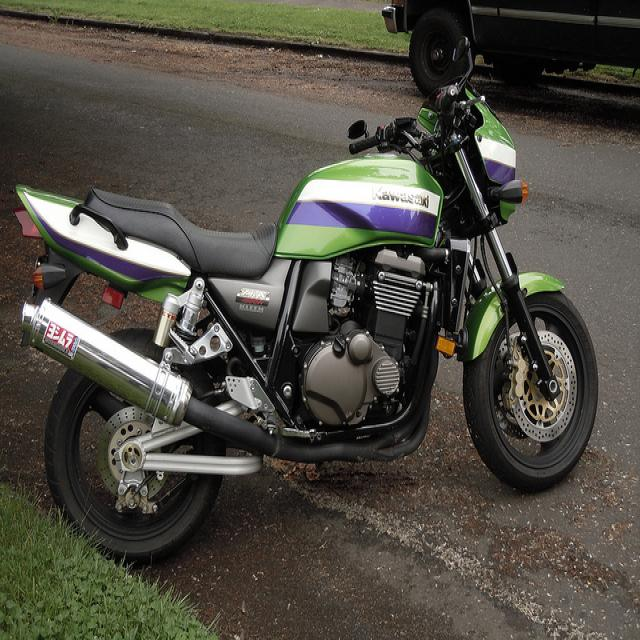motor: (12, 36, 605, 570)
